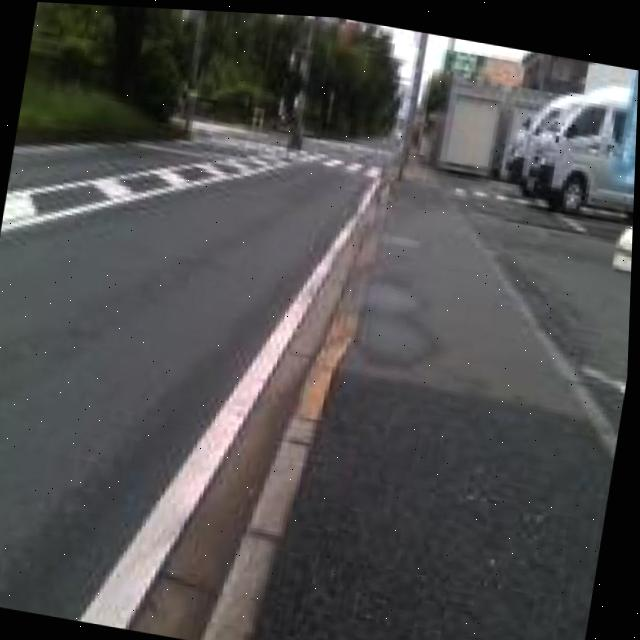Automobile: (440, 74, 637, 217)
Obstacle: (399, 27, 427, 175), (617, 62, 639, 188)
Road: (0, 139, 381, 639)
Sidewalk: (257, 168, 634, 640)
